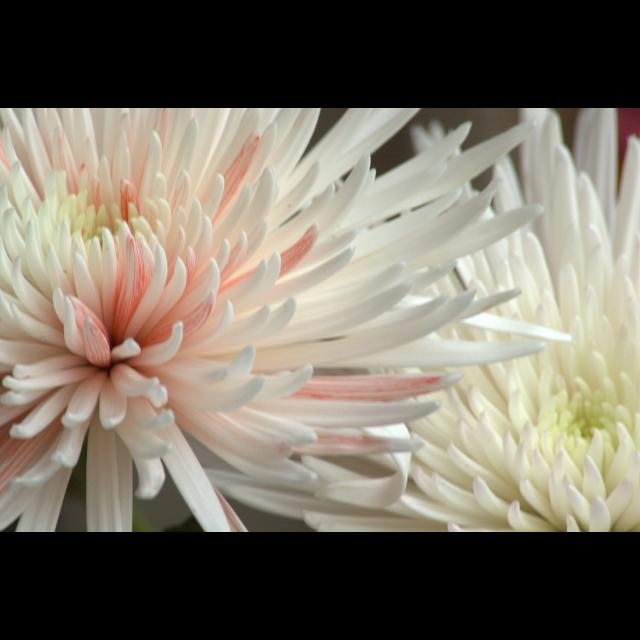Flower: (1, 109, 576, 532), (227, 109, 639, 532)
